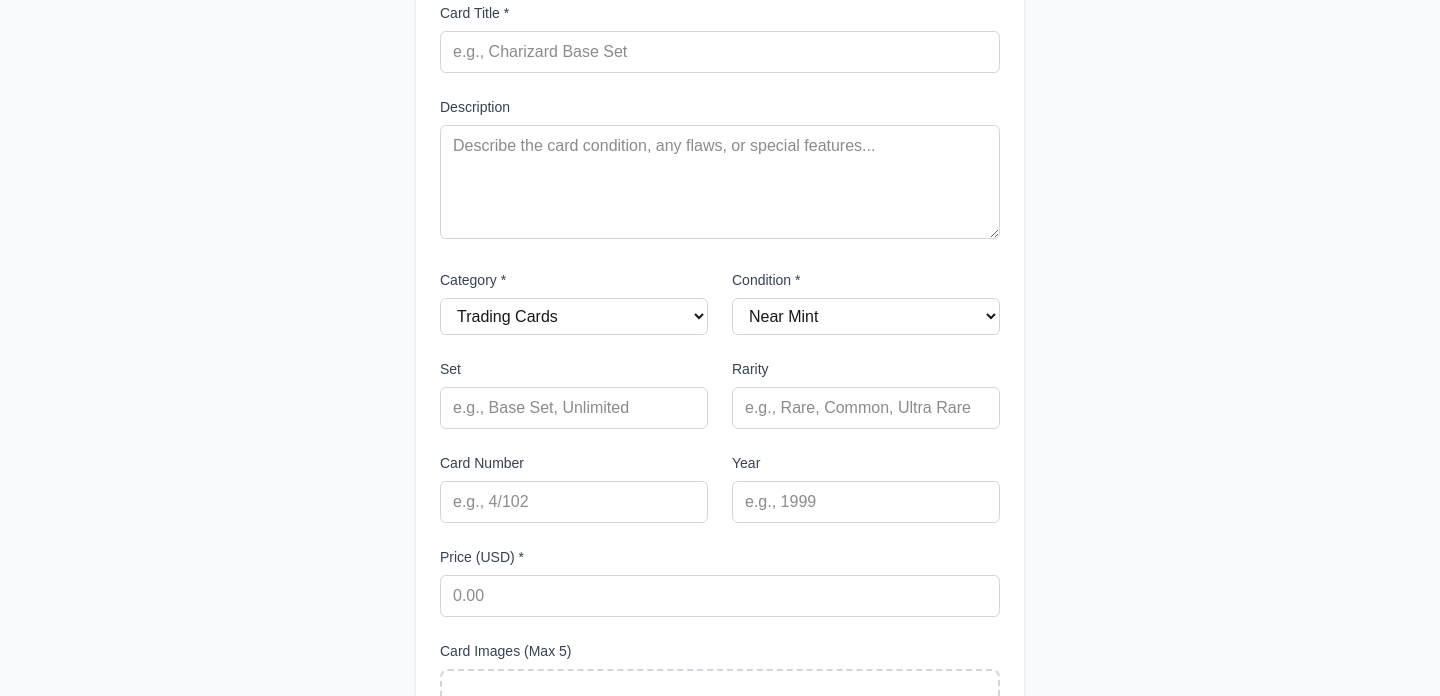
Test case: SellPage › should handle form submission error
The width and height of the screenshot is (1440, 696).
Fill out form with required fields
Type "Charizard" into the field labelled "Card Title *" at (720, 52), box [440,31,1000,73]
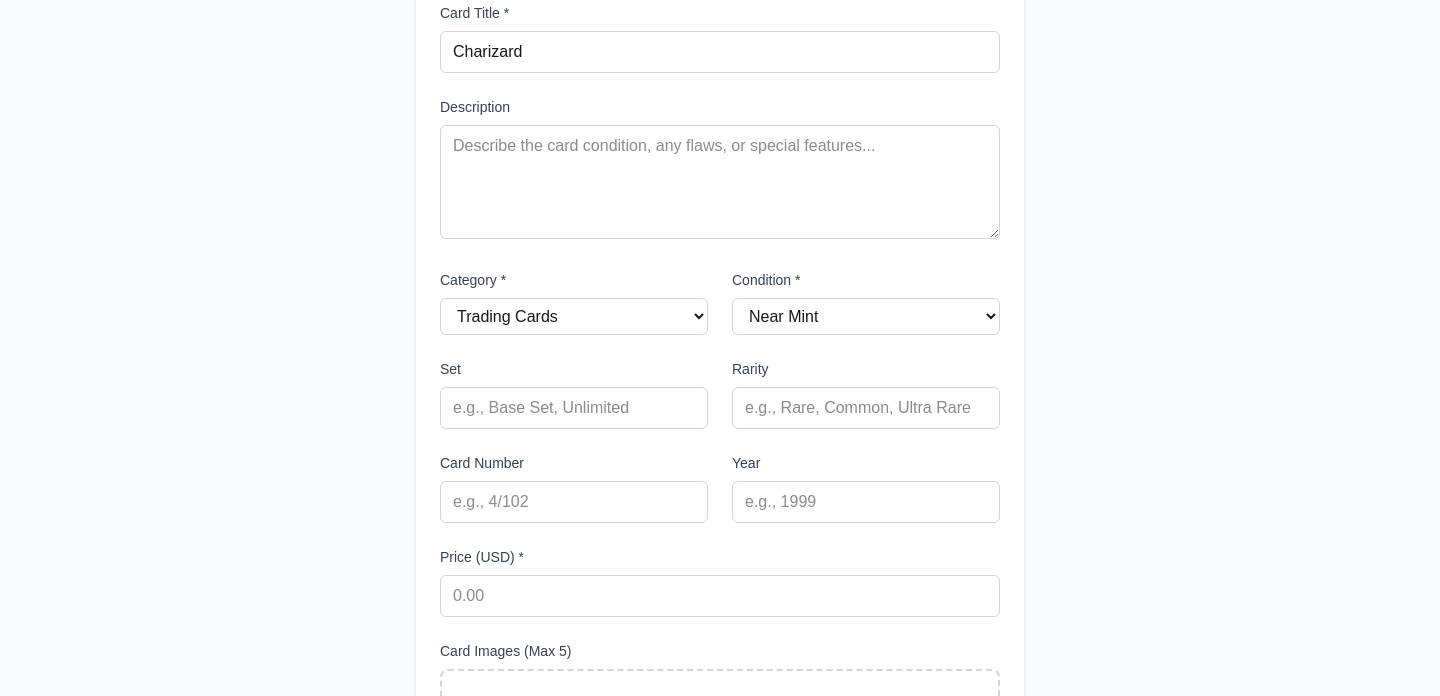
Type "100" into the number field labelled "Price (USD) *" at (720, 596), box [440,575,1000,617]
(page scrolled)
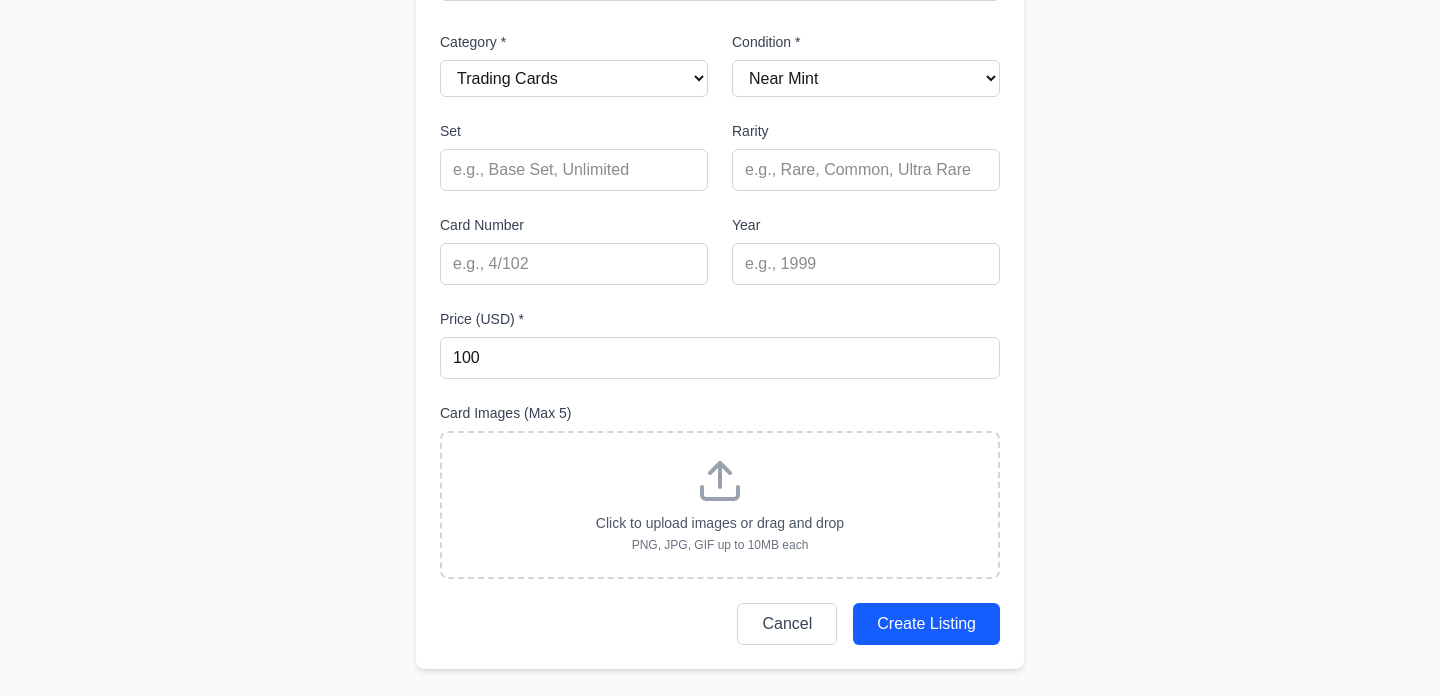
Click the button "Create Listing" at (927, 624), box [853,603,1000,645]
(page scrolled)
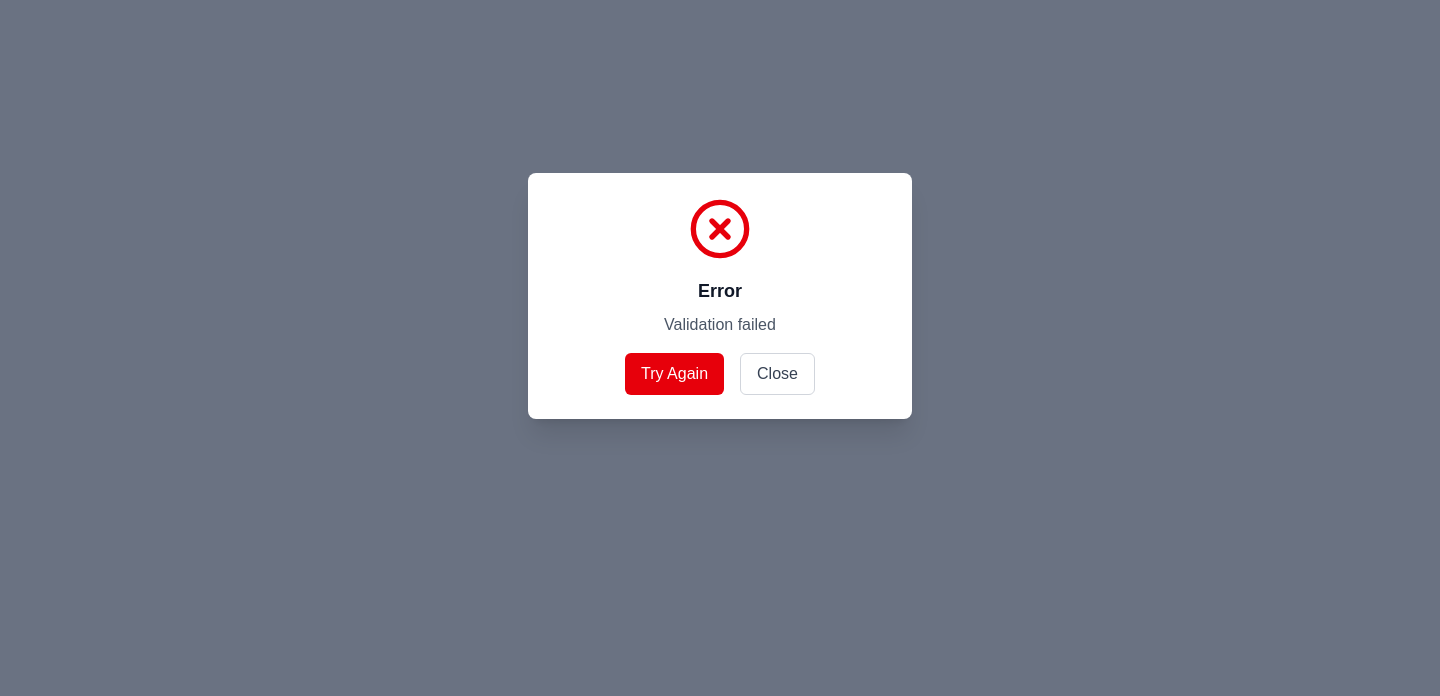
Expected: the heading "Error" is shown, [698,281,742,301]
Expected: the text "Validation failed" is shown 2 times
